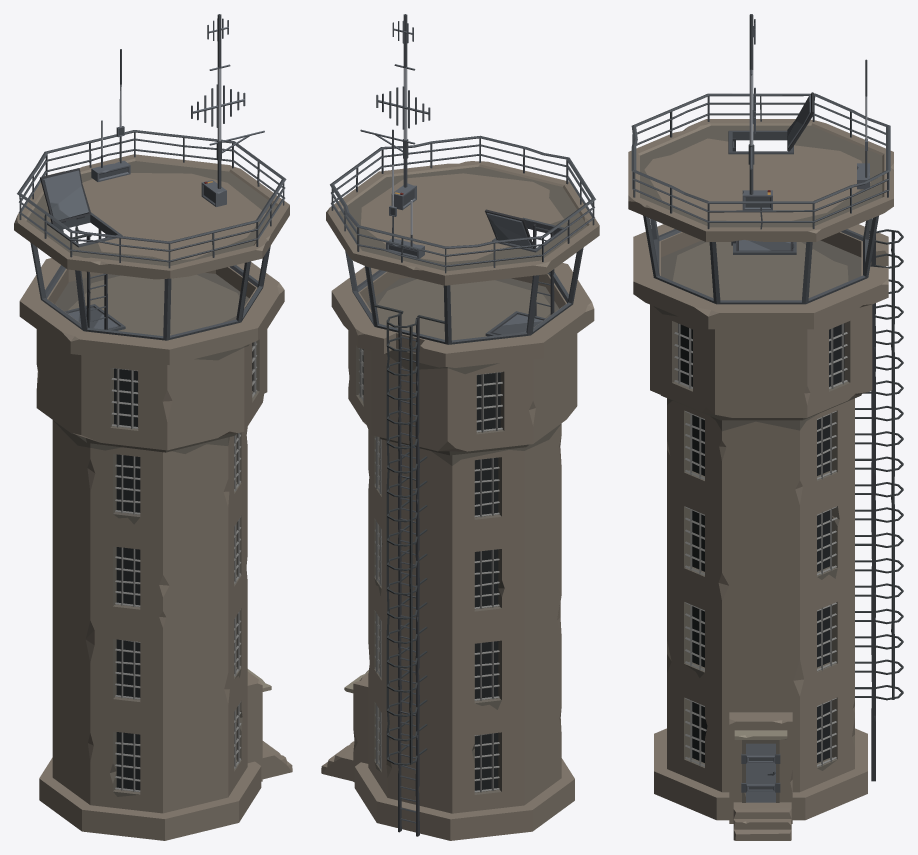
File: SM_Bld_ControlTower_01.gltf
The picture shows the model from 3 angles, left to right: view 1: azimuth 30°, elevation 25°; view 2: azimuth 150°, elevation 25°; view 3: azimuth 270°, elevation 25°; orthographic projection. The views are drawn at different scales.
Visible parts, largest first — view 1: SM_Bld_ControlTower_01; view 2: SM_Bld_ControlTower_01; view 3: SM_Bld_ControlTower_01.
Part boxes in pixels (left/top/right/bottom): SM_Bld_ControlTower_01: left=14, top=14, right=292, bottom=840; SM_Bld_ControlTower_01: left=321, top=14, right=599, bottom=840; SM_Bld_ControlTower_01: left=628, top=14, right=903, bottom=840.
Bounding box in the file's own units: 9.72 × 29.69 × 9.35.
Materials: 1 (1 with a texture image).
